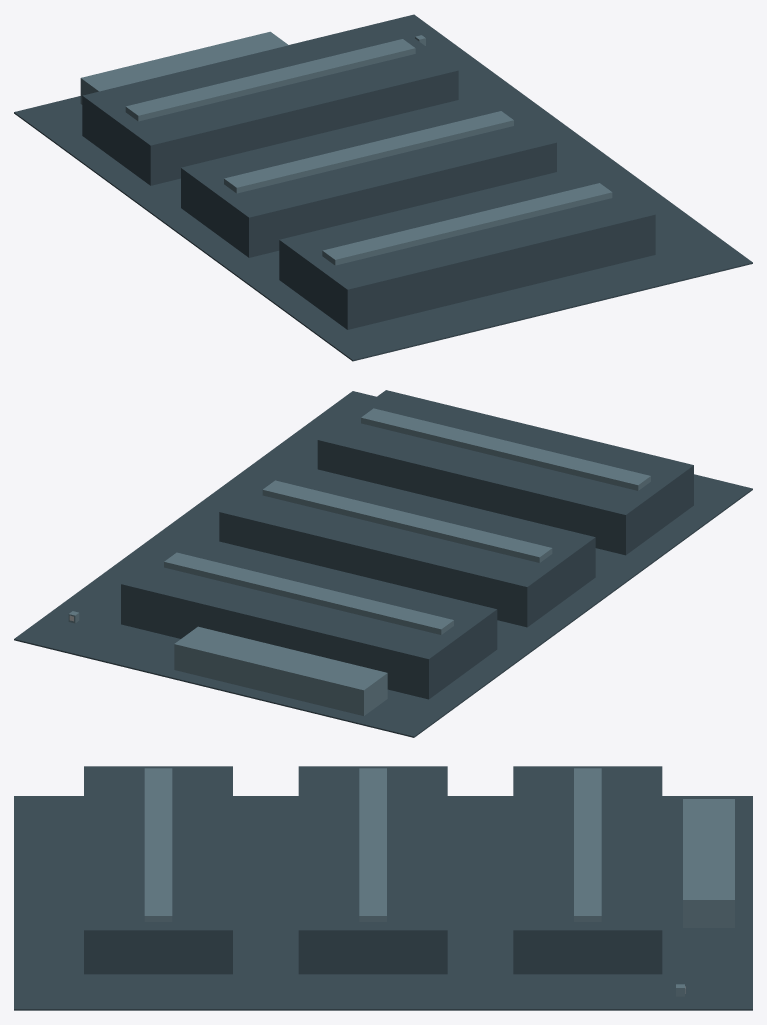
The model's file is data_center_campus.lod2.glb.
3 views of the same model, one above another, from view 1: azimuth 30°, elevation 25°; view 2: azimuth 150°, elevation 25°; view 3: azimuth 270°, elevation 25° (orthographic). The views are drawn at different scales.
Visible parts, largest first — view 1: data_center_campus_graphite.002, data_center_campus_graphite_light.002; view 2: data_center_campus_graphite.002, data_center_campus_graphite_light.002; view 3: data_center_campus_graphite.002, data_center_campus_graphite_light.002.
Boxes of the visible parts, left/top/right/bottom form: data_center_campus_graphite.002: left=14, top=14, right=752, bottom=361; data_center_campus_graphite_light.002: left=80, top=31, right=612, bottom=265; data_center_campus_graphite.002: left=14, top=390, right=752, bottom=737; data_center_campus_graphite_light.002: left=68, top=408, right=650, bottom=715; data_center_campus_graphite.002: left=14, top=766, right=752, bottom=1010; data_center_campus_graphite_light.002: left=144, top=768, right=734, bottom=996.
Bounding box in the file's own units: 146 × 16.5 × 213.
